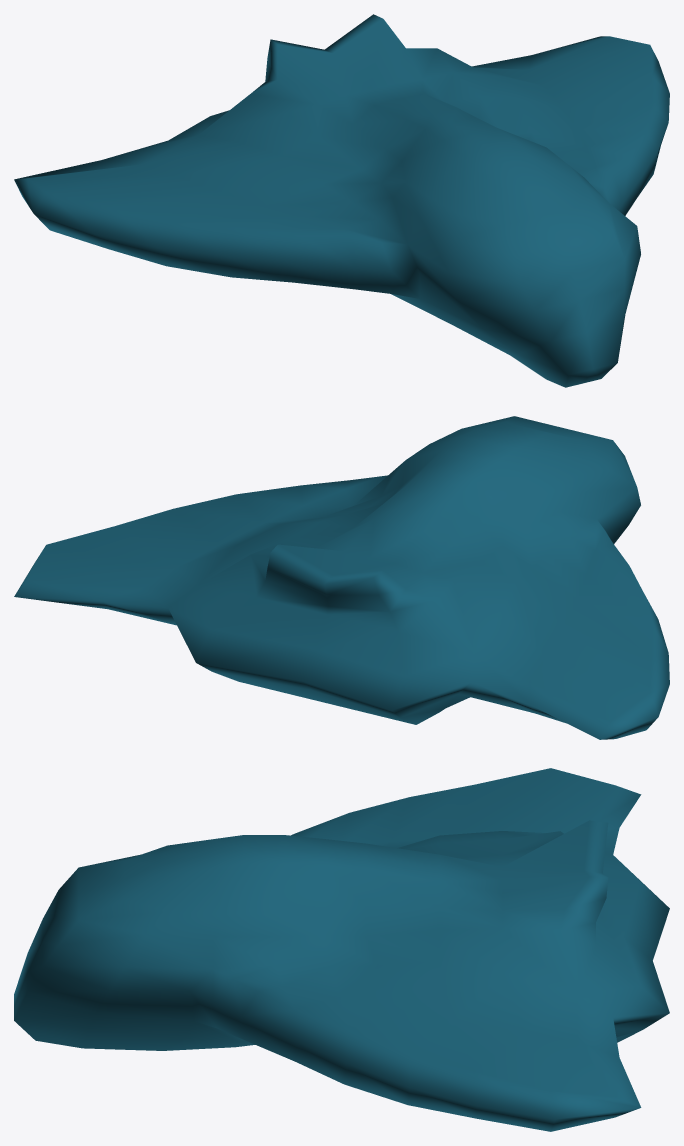
Rendered from Shield.fbx.
3 renders of one model, top to bottom at view 1: azimuth 30°, elevation 25°; view 2: azimuth 150°, elevation 25°; view 3: azimuth 270°, elevation 25°, orthographic. The views are drawn at different scales.
Parts seen in each view (by area): view 1: pCube21; view 2: pCube21; view 3: pCube21.
Part boxes in pixels (bbox=[...]): pCube21: bbox=[14, 14, 669, 387]; pCube21: bbox=[14, 416, 669, 739]; pCube21: bbox=[14, 768, 669, 1131].
Bounding box in the file's own units: 3.31 × 0.8961 × 2.74.
